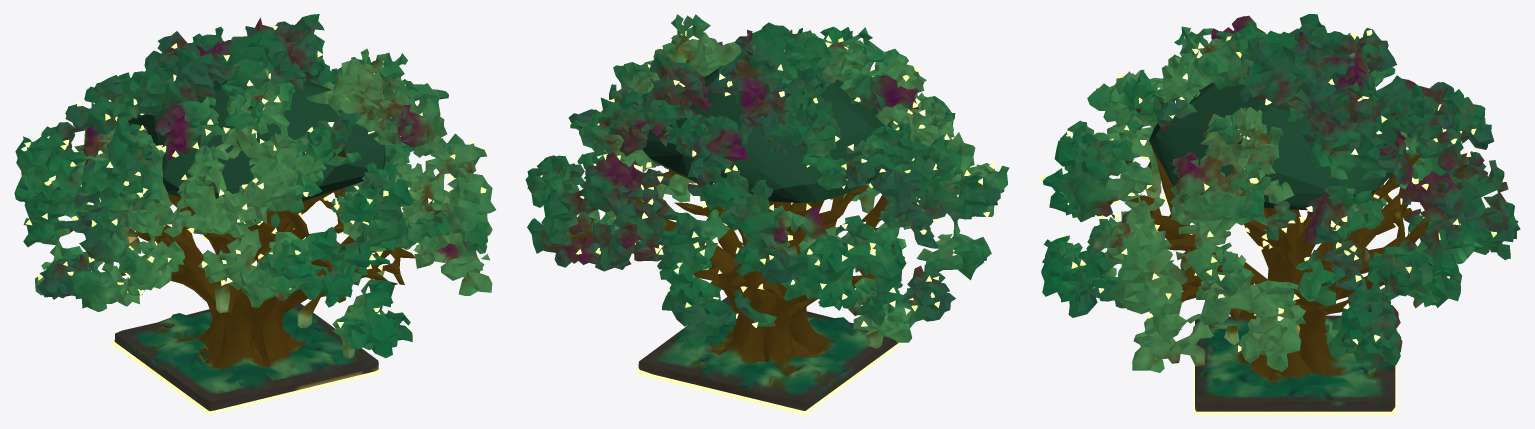
Rendered from tree_banyan.glb.
3 renders of one model, left to right at view 1: azimuth 30°, elevation 25°; view 2: azimuth 150°, elevation 25°; view 3: azimuth 270°, elevation 25°, orthographic. The views are drawn at different scales.
Parts seen in each view (by area): view 1: body, canopy, lights, light; view 2: body, canopy, lights, light; view 3: body, canopy, lights, light.
Boxes of the visible parts, left/top/right/bottom form: body: left=14, top=14, right=495, bottom=411; canopy: left=128, top=80, right=385, bottom=201; lights: left=16, top=25, right=488, bottom=327; light: left=111, top=340, right=381, bottom=414; body: left=525, top=14, right=1009, bottom=410; canopy: left=642, top=66, right=892, bottom=202; lights: left=540, top=30, right=1000, bottom=327; light: left=635, top=342, right=901, bottom=414; body: left=1041, top=14, right=1520, bottom=411; canopy: left=1149, top=82, right=1400, bottom=210; lights: left=1038, top=29, right=1515, bottom=351; light: left=1193, top=324, right=1396, bottom=414.
Size of the model in its own units: 12.58 by 9.85 by 12.26.
Materials: 4 (1 with a texture image).
